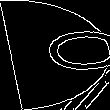O_W: (5, 31, 105, 79)
